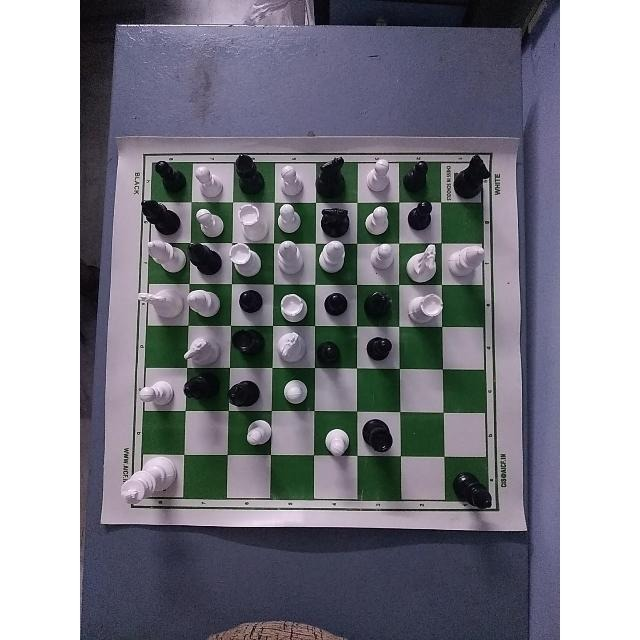black-bishop: (453, 466, 505, 514), (182, 367, 230, 410), (134, 192, 184, 233), (234, 147, 265, 198), (360, 288, 400, 324), (185, 237, 223, 274), (229, 370, 263, 409)
black-knight: (452, 152, 493, 200), (312, 154, 350, 199), (320, 198, 360, 240)
black-pawn: (356, 323, 396, 373), (398, 154, 443, 198), (315, 283, 357, 324), (234, 284, 276, 324), (155, 150, 187, 202), (313, 331, 353, 367), (404, 199, 440, 239)
black-rook: (359, 416, 407, 455), (227, 327, 267, 366)
white-bishop: (143, 236, 194, 280), (443, 238, 488, 279), (317, 236, 350, 287), (276, 237, 316, 279), (179, 281, 224, 315)
white-king: (116, 456, 179, 514)
white-knight: (134, 285, 191, 321), (182, 329, 230, 371), (400, 239, 444, 284), (269, 328, 314, 360)
white-pawn: (275, 200, 319, 240), (367, 239, 403, 284), (137, 377, 176, 417), (187, 159, 226, 199), (192, 205, 236, 238), (271, 159, 309, 197), (320, 420, 356, 459), (276, 373, 314, 409), (362, 154, 393, 196), (242, 418, 274, 452), (364, 202, 390, 238)
white-rook: (228, 241, 274, 285), (231, 202, 275, 244), (273, 283, 310, 329), (408, 283, 443, 324)
